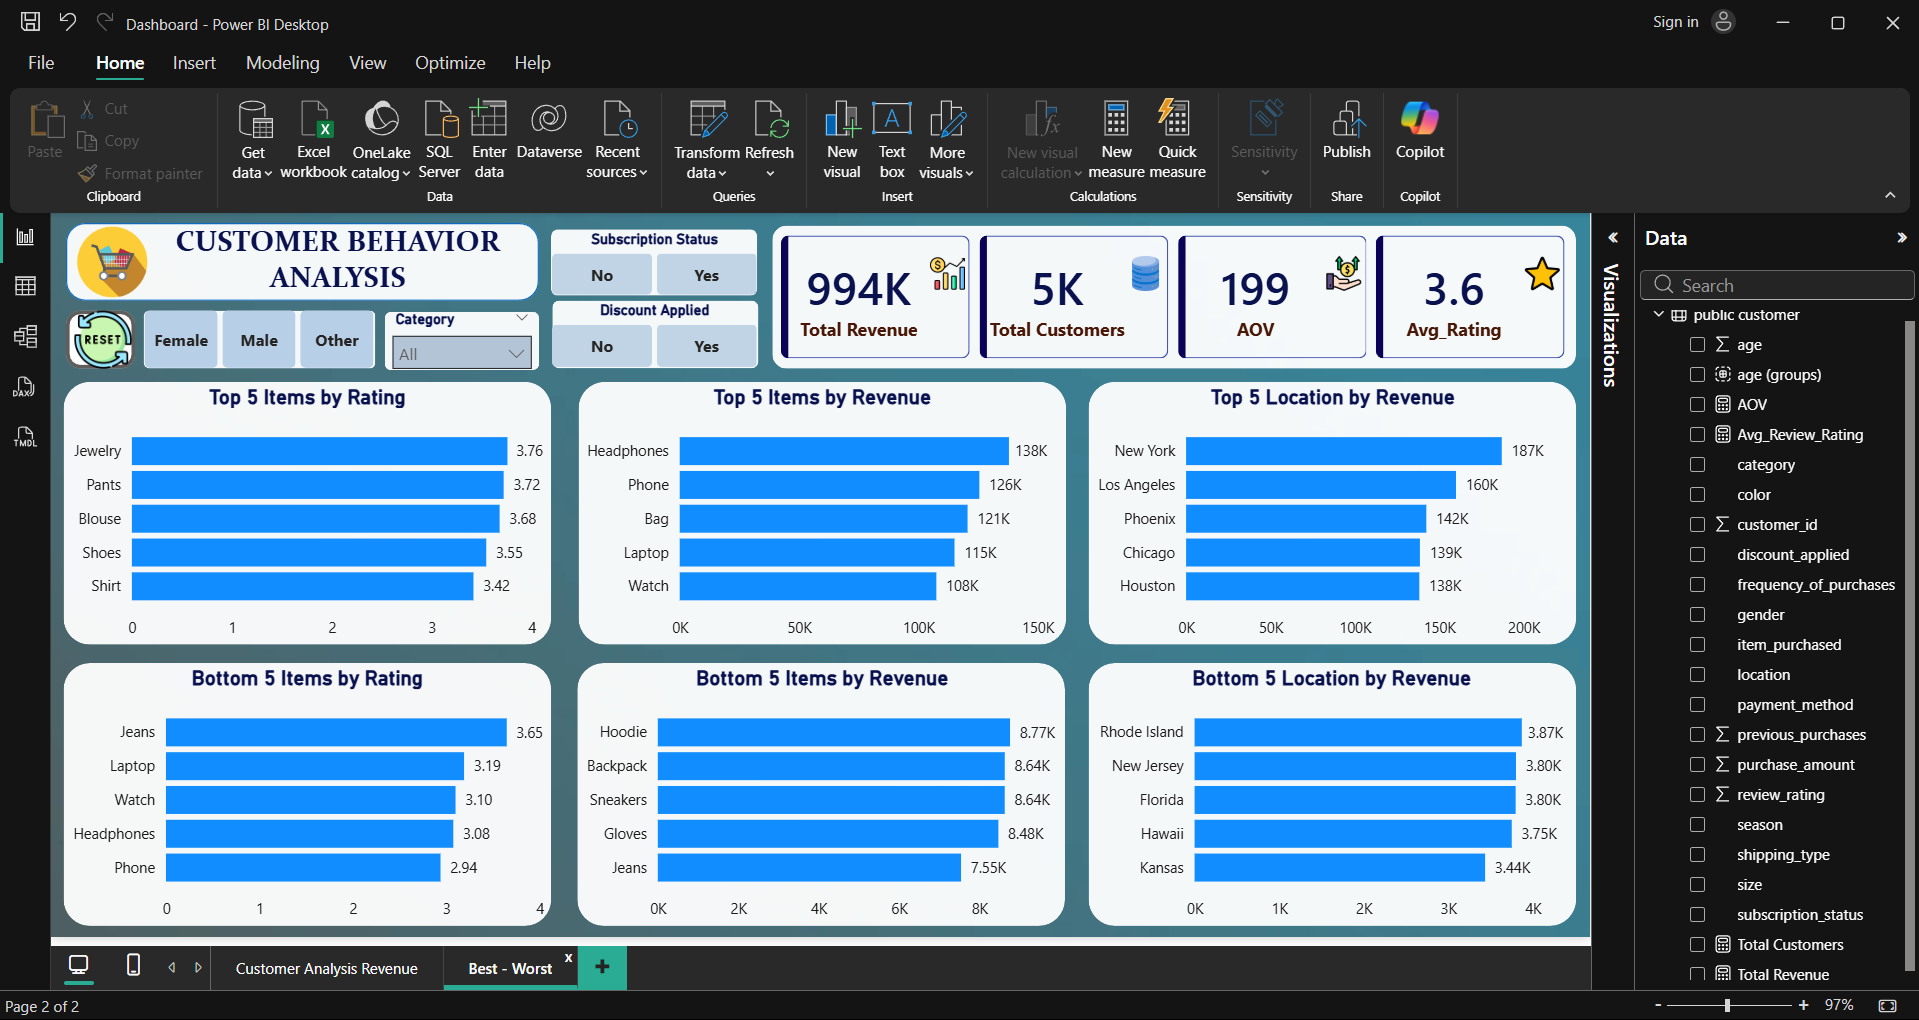

Layout of this report page (visuals, bound fields, positions):
{"tool":"powerbi","page":{"name":"Best - Worst","canvas":[1265,595],"ordinal":1},"visuals":[{"type":"shape","box":[592.5,10.1,660.5,117.7],"z":0},{"type":"shape","box":[10.1,139,400.8,216.1],"z":1000},{"type":"cardVisual","fields":{"Data":["public customer.Total Revenue","public customer.Total Customers","public customer.AOV","public customer.Avg_Review_Rating"]},"box":[599.6,18.3,646.3,101.5],"z":2000},{"type":"shape","box":[852.3,369.3,400.8,216.1],"z":3000},{"type":"clusteredBarChart","title":"Top 5 Items by Rating","fields":{"Category":["public customer.item_purchased"],"Y":["Avg(public customer.review_rating)"]},"box":[10.1,139,400.8,216.1],"z":4000},{"type":"shape","box":[852.3,139,400.8,216.1],"z":5000},{"type":"shape","box":[433.2,139,400.8,216.1],"z":6000},{"type":"shape","box":[432.2,369.3,400.8,216.1],"z":7000},{"type":"clusteredBarChart","title":"Top 5 Items by Revenue","fields":{"Category":["public customer.item_purchased"],"Y":["Sum(public customer.purchase_amount)"]},"box":[432.2,139,400.8,216.1],"z":8000},{"type":"shape","box":[10.1,369.3,400.8,216.1],"z":9000},{"type":"clusteredBarChart","title":"Top 5 Location by Revenue","fields":{"Category":["public customer.location"],"Y":["Sum(public customer.purchase_amount)"]},"box":[852.3,139,400.8,216.1],"z":10000},{"type":"clusteredBarChart","title":"Bottom 5 Items by Rating","fields":{"Category":["public customer.item_purchased"],"Y":["Avg(public customer.review_rating)"]},"box":[10.1,369.3,400.8,216.1],"z":11000},{"type":"clusteredBarChart","title":"Bottom 5 Items by Revenue","fields":{"Category":["public customer.item_purchased"],"Y":["Sum(public customer.purchase_amount)"]},"box":[432.2,369.3,400.8,216.1],"z":12000},{"type":"clusteredBarChart","title":"Bottom 5 Location by Revenue","fields":{"Category":["public customer.location"],"Y":["Sum(public customer.purchase_amount)"]},"box":[852.3,369.3,400.8,216.1],"z":13000},{"type":"shape","box":[410.9,13.2,169.4,54.8],"z":14000},{"type":"shape","box":[12.2,8.1,388.6,63.9],"z":15000},{"type":"shape","box":[76.1,80.2,190.7,47.7],"z":16000},{"type":"shape","box":[411.9,72,169.4,55.8],"z":17000},{"type":"actionButton","box":[12.2,80.2,56.8,47.7],"z":18000},{"type":"textbox","box":[71,8.1,329.7,63.9],"z":19000},{"type":"image","box":[12.2,8.1,76.1,63.9],"z":20000},{"type":"shape","box":[273.9,81.2,126.8,48],"z":20500},{"type":"image","box":[14.2,80.2,56.8,47.7],"z":21000},{"type":"advancedSlicerVisual","title":"Subscription Status","fields":{"Values":["public customer.subscription_status"]},"box":[410.9,13.2,170.5,54.8],"z":22000},{"type":"advancedSlicerVisual","title":"Discount Applied","fields":{"Values":["public customer.discount_applied"]},"box":[410.9,72,170.5,55.8],"z":23000},{"type":"advancedSlicerVisual","fields":{"Values":["public customer.gender"]},"box":[76.1,80.2,190.7,47.7],"z":24000},{"type":"slicer","fields":{"Values":["public customer.category"]},"box":[273.9,80.2,126.8,47.7],"z":26000}]}

Visuals, with their boxes on the page's 1265x595 design canvas (x1, y1, x2, y2). These are canvas units, not pixel positions in the 1919x1020 screenshot, which may show the page scaled, cropped or inside an application window:
shape: [left=592, top=10, right=1253, bottom=128]
shape: [left=10, top=139, right=411, bottom=355]
cardVisual - public customer.Total Revenue x public customer.Total Customers: [left=600, top=18, right=1246, bottom=120]
shape: [left=852, top=369, right=1253, bottom=585]
"Top 5 Items by Rating" clusteredBarChart: [left=10, top=139, right=411, bottom=355]
shape: [left=852, top=139, right=1253, bottom=355]
shape: [left=433, top=139, right=834, bottom=355]
shape: [left=432, top=369, right=833, bottom=585]
"Top 5 Items by Revenue" clusteredBarChart: [left=432, top=139, right=833, bottom=355]
shape: [left=10, top=369, right=411, bottom=585]
"Top 5 Location by Revenue" clusteredBarChart: [left=852, top=139, right=1253, bottom=355]
"Bottom 5 Items by Rating" clusteredBarChart: [left=10, top=369, right=411, bottom=585]
"Bottom 5 Items by Revenue" clusteredBarChart: [left=432, top=369, right=833, bottom=585]
"Bottom 5 Location by Revenue" clusteredBarChart: [left=852, top=369, right=1253, bottom=585]
shape: [left=411, top=13, right=580, bottom=68]
shape: [left=12, top=8, right=401, bottom=72]
shape: [left=76, top=80, right=267, bottom=128]
shape: [left=412, top=72, right=581, bottom=128]
actionButton: [left=12, top=80, right=69, bottom=128]
textbox: [left=71, top=8, right=401, bottom=72]
image: [left=12, top=8, right=88, bottom=72]
shape: [left=274, top=81, right=401, bottom=129]
image: [left=14, top=80, right=71, bottom=128]
"Subscription Status" advancedSlicerVisual: [left=411, top=13, right=581, bottom=68]
"Discount Applied" advancedSlicerVisual: [left=411, top=72, right=581, bottom=128]
advancedSlicerVisual - public customer.gender: [left=76, top=80, right=267, bottom=128]
slicer - public customer.category: [left=274, top=80, right=401, bottom=128]
